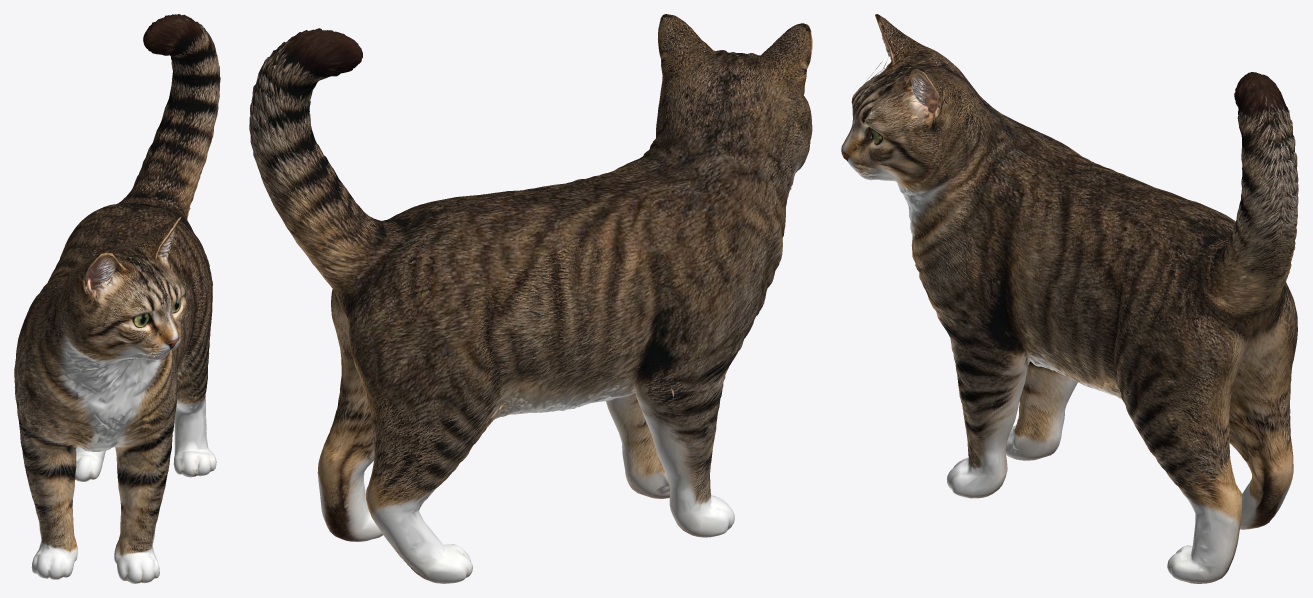
File: tabby_cat_mobile.glb
3 renders of one model, left to right at view 1: azimuth 30°, elevation 25°; view 2: azimuth 150°, elevation 25°; view 3: azimuth 270°, elevation 25°, orthographic. The views are drawn at different scales.
Parts seen in each view (by area): view 1: cat; view 2: cat; view 3: cat.
Part boxes in pixels (x1=…): cat: x1=14, y1=14, x2=220, y2=583; cat: x1=249, y1=14, x2=812, y2=583; cat: x1=841, y1=14, x2=1298, y2=583.
Size of the model in its own units: 0.3734 by 0.4999 by 0.4145.
1 material, 1 textured.
